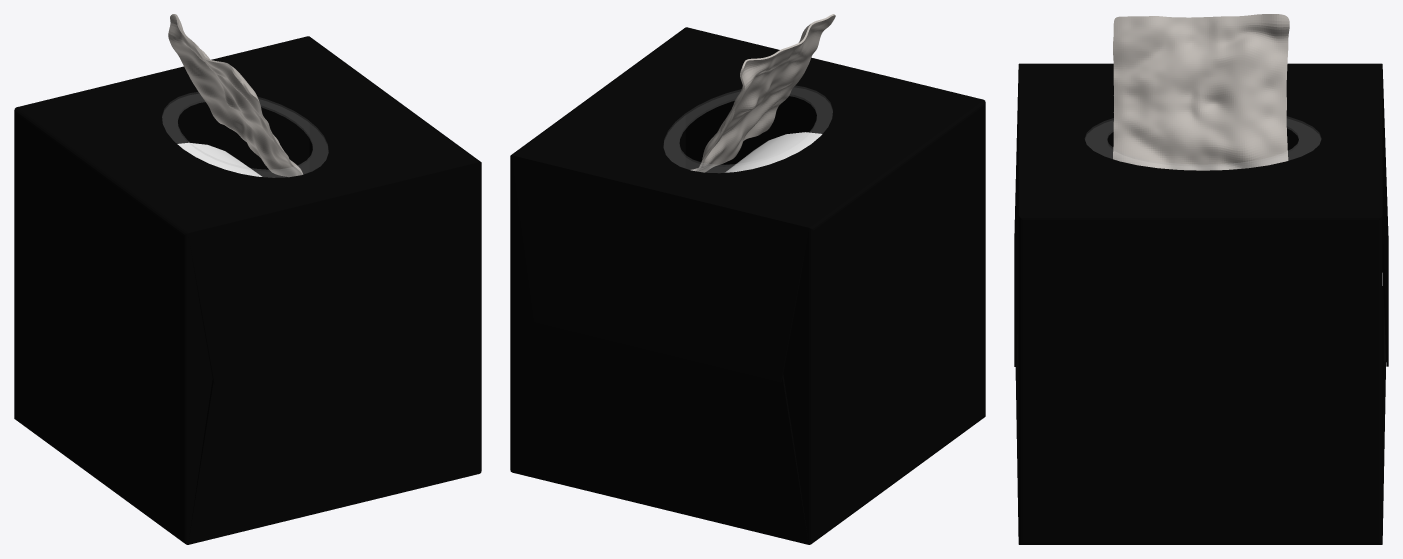
The model's file is tissues.fbx.
The picture shows the model from 3 angles, left to right: view 1: azimuth 30°, elevation 25°; view 2: azimuth 150°, elevation 25°; view 3: azimuth 270°, elevation 25°; orthographic projection. The views are drawn at different scales.
Parts seen in each view (by area): view 1: Plane_1; view 2: Plane_1; view 3: Plane_1.
Boxes of the visible parts, x1=… form: Plane_1: x1=14, y1=14, x2=481, y2=544; Plane_1: x1=510, y1=14, x2=985, y2=544; Plane_1: x1=1014, y1=14, x2=1388, y2=544.
Size of the model in its own units: 196 by 259 by 201.
Materials: 5 (1 with a texture image).
